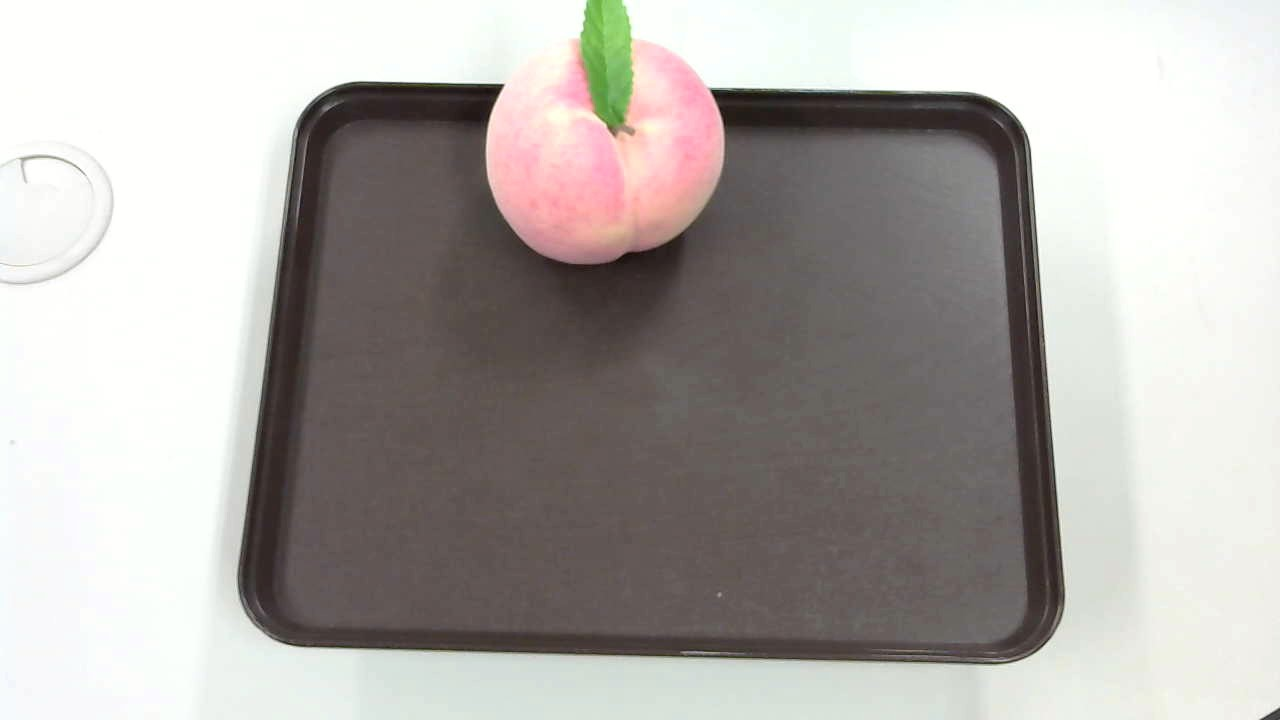peach: (476, 3, 730, 269)
